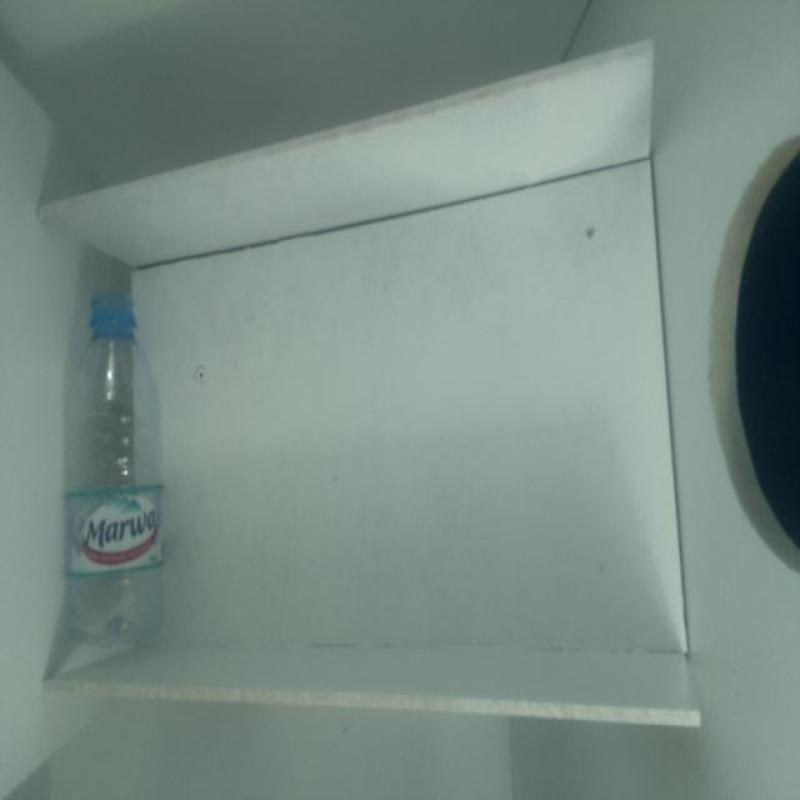botella: (64, 291, 165, 650)
